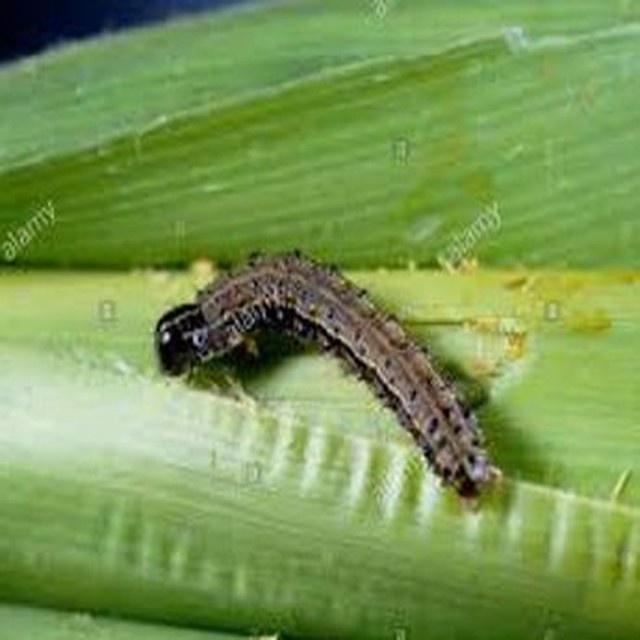gusano_cogollero: (154, 244, 500, 504)
